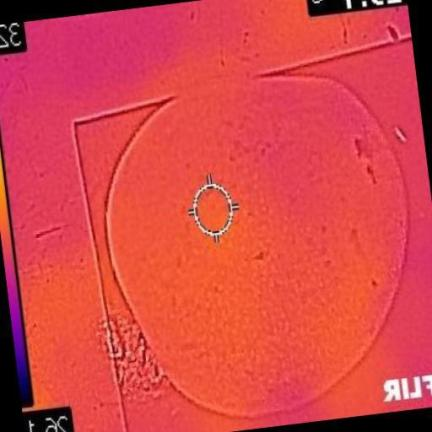mango: (107, 78, 408, 412)
